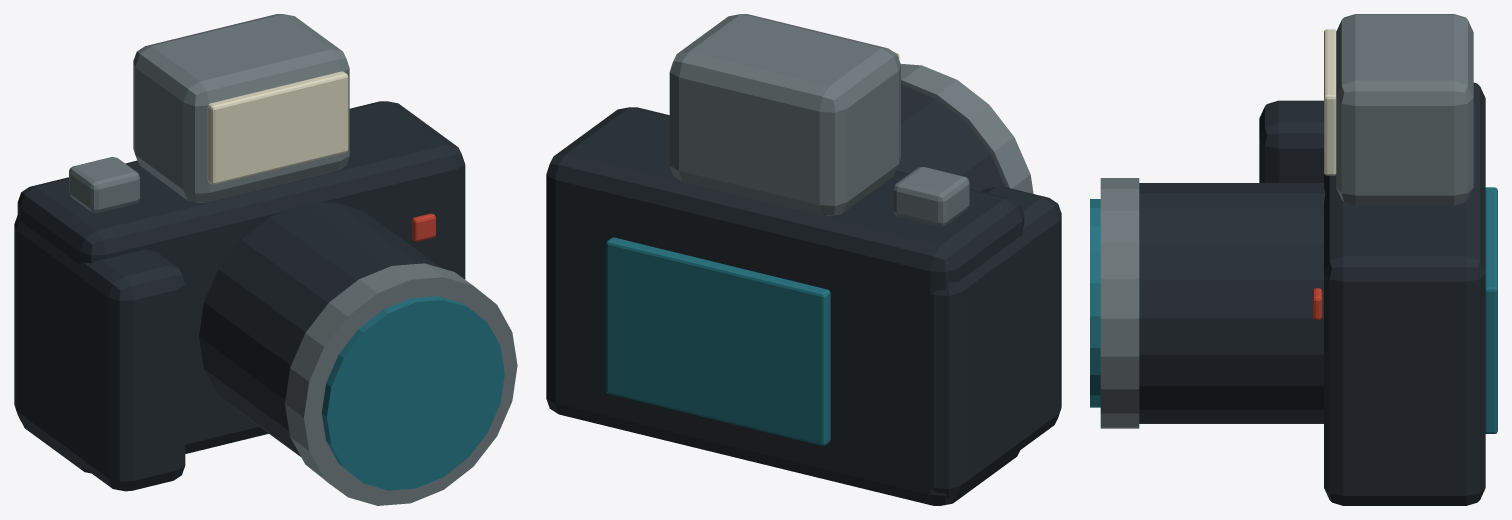
Rendered from camera.glb.
The picture shows the model from 3 angles, left to right: view 1: azimuth 30°, elevation 25°; view 2: azimuth 150°, elevation 25°; view 3: azimuth 270°, elevation 25°; orthographic projection. The views are drawn at different scales.
Visible parts, largest first — view 1: camera; view 2: camera; view 3: camera.
Boxes of the visible parts, bbox=[...] form: camera: bbox=[14, 14, 517, 505]; camera: bbox=[546, 14, 1061, 505]; camera: bbox=[1090, 14, 1497, 505].
Bounding box in the file's own units: 0.2825 × 0.2525 × 0.252.
